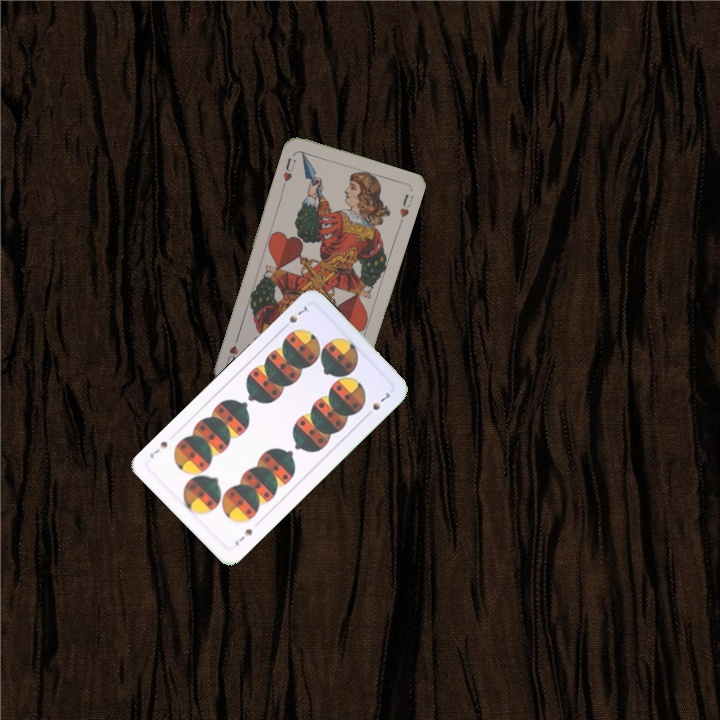HU: (279, 154, 299, 184)
S7: (278, 302, 310, 332), (231, 525, 255, 549)
